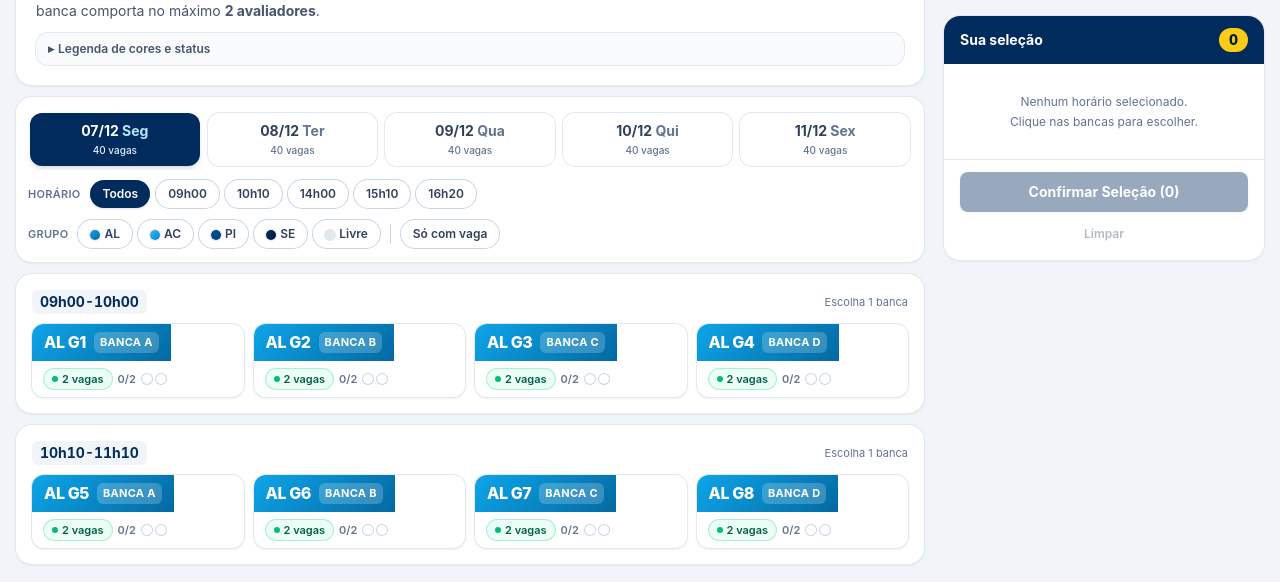
Test: fluxo do participante (UI, modo local) › seleciona, bloqueia a faixa, valida identificação e confirma
(page scrolled)
Expected: the number of tabs is 5, [30,113,200,166]; [208,113,377,166]; [385,113,555,166]; [563,113,732,166]; [740,113,910,166]
Click the button "AL G1 Banca A 2 vagas 0/2". click: (138, 360)
box: [32,324,244,397]
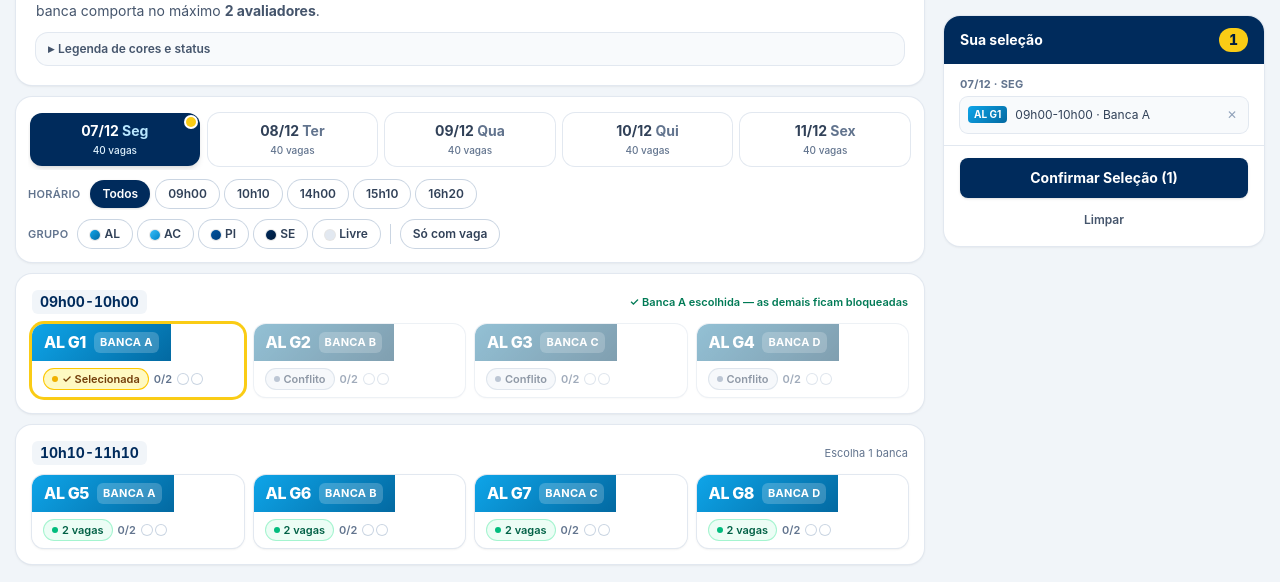
Expected: the button "Confirmar Seleção (1)" is shown
Expected: the number of elements named "há seleção neste dia" is 1, [186,117,196,127]
sem identificação: não abre a confirmação e mostra erros
Click the button "Confirmar Seleção (1)". click: (1104, 178)
box: [960,158,1248,198]
(page scrolled)
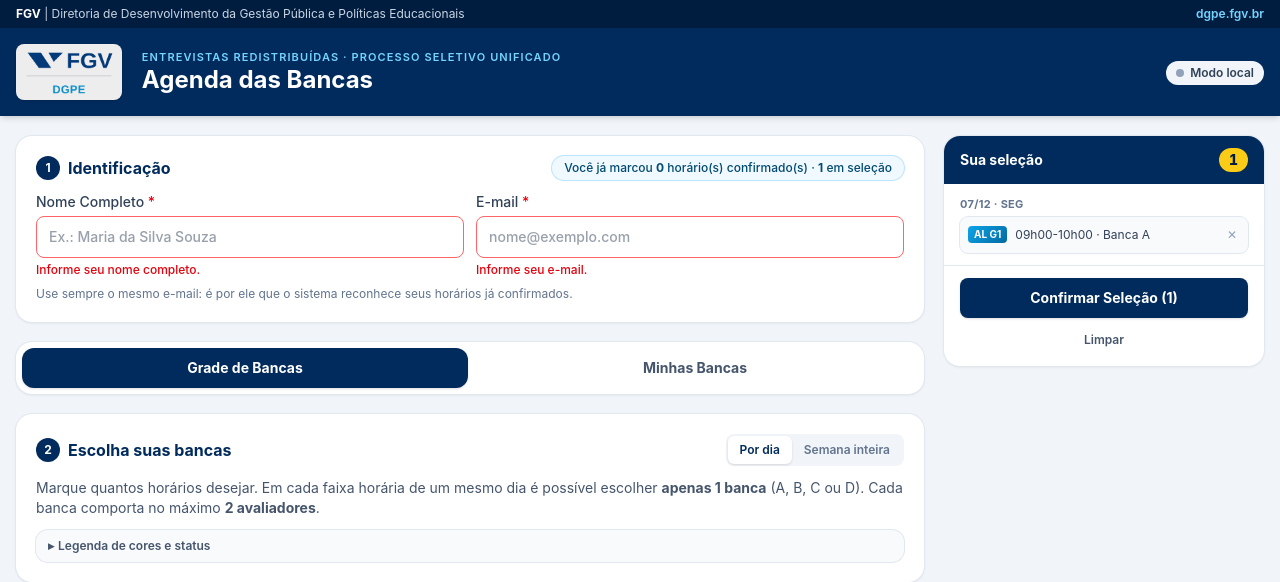
Expected: the text "Informe seu nome completo." is shown, [36,262,200,277]
Type "Ana Lima" into the field with placeholder "Ex.: Maria da Silva Souza". click: (250, 237)
box: [36,216,464,258]
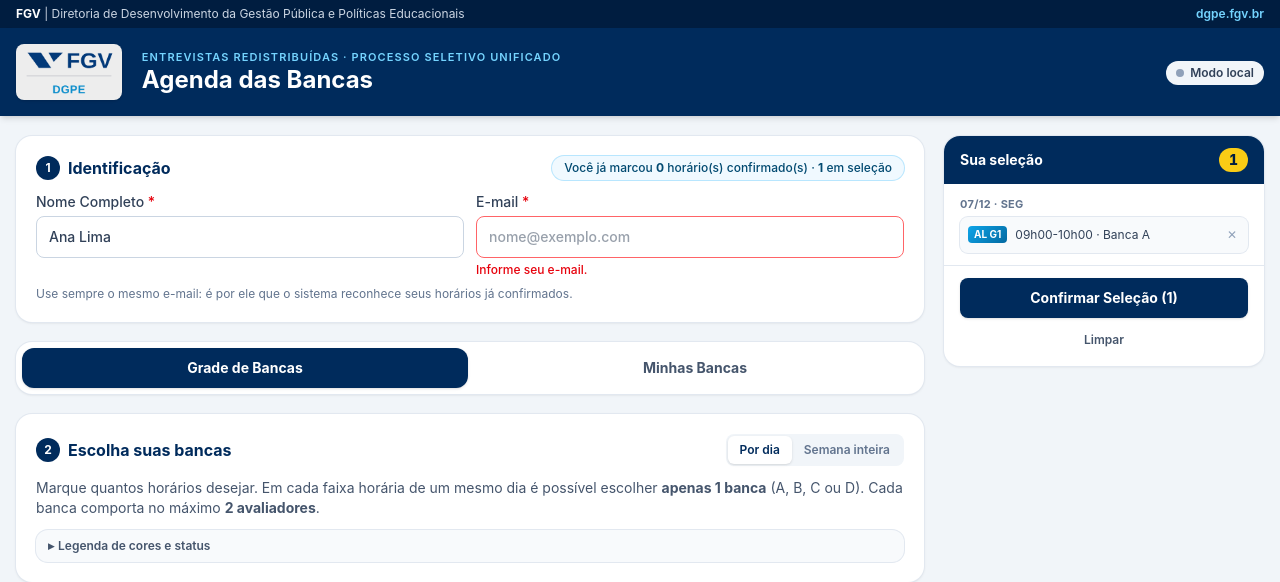
Type "ana@fgv.br" into the field with placeholder "nome@exemplo.com". click: (690, 237)
box: [476,216,904,258]
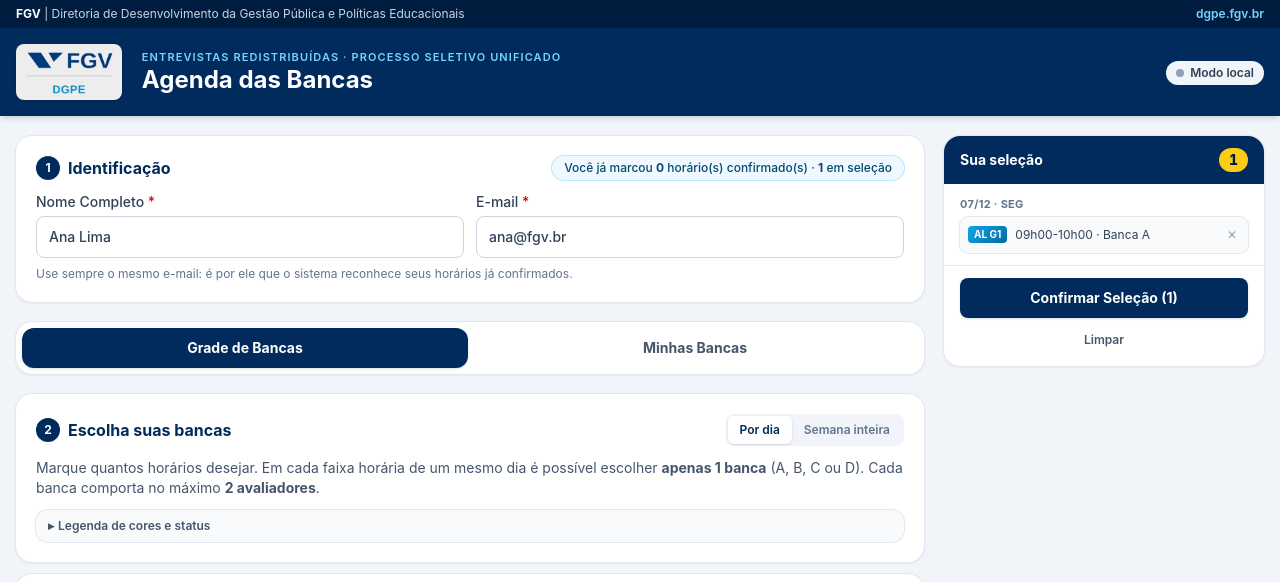
Click the button "Confirmar Seleção (1)". click: (1104, 298)
box: [960,278,1248,318]
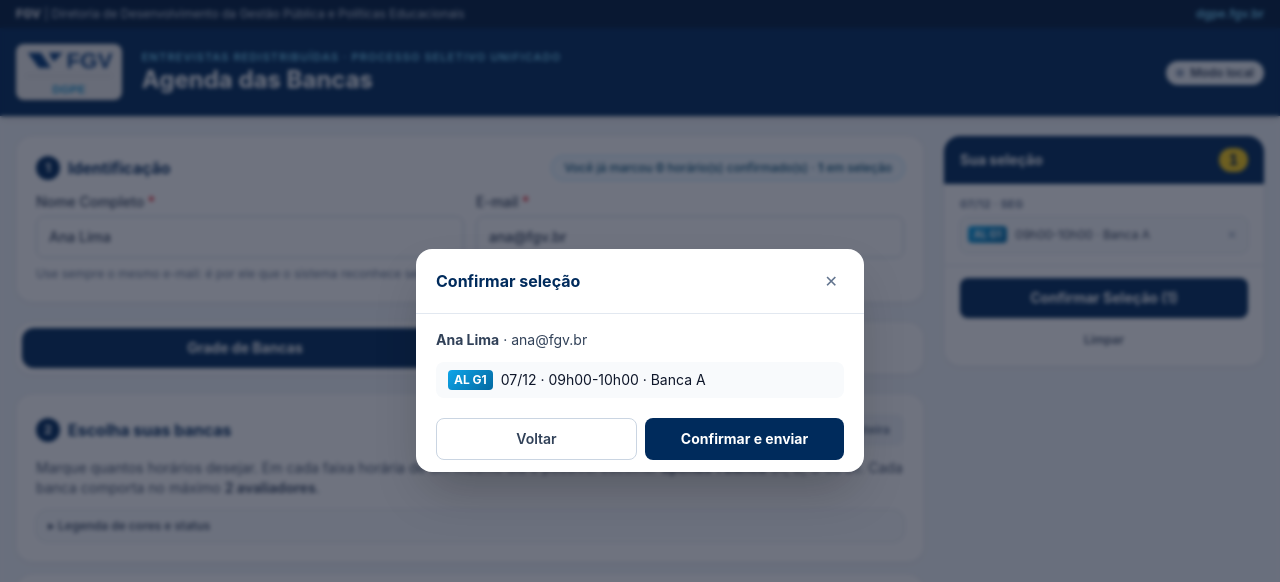
Click the button "Confirmar e enviar". click: (744, 438)
box: [645,418,844,460]
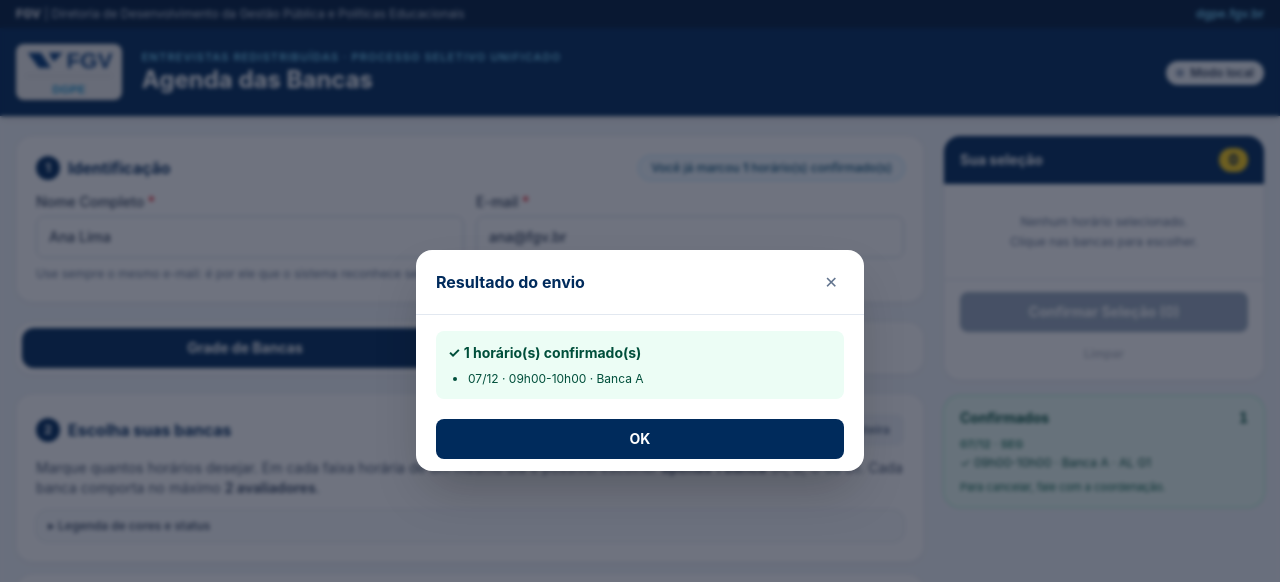
Expected: the text "✓ 1 horário(s) confirmado(s)" is shown, [448,344,641,360]
Expected: the button "Confirmar Seleção (0)" is shown, [960,292,1248,332]
